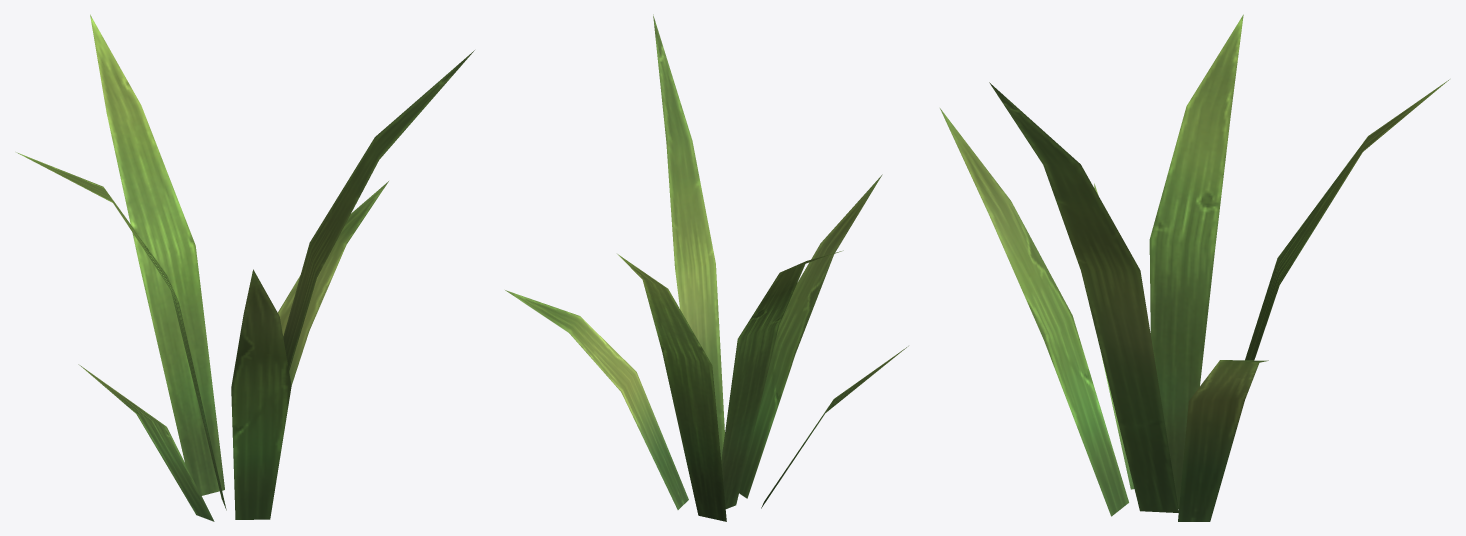
The model's file is GrassE.FBX.
3 views of the same model, side by side, from view 1: azimuth 30°, elevation 25°; view 2: azimuth 150°, elevation 25°; view 3: azimuth 270°, elevation 25° (orthographic). The views are drawn at different scales.
Parts seen in each view (by area): view 1: GrassE_ms1; view 2: GrassE_ms1; view 3: GrassE_ms1.
Part boxes in pixels (<box>): GrassE_ms1: <box>16,14,474,521</box>; GrassE_ms1: <box>505,14,908,521</box>; GrassE_ms1: <box>940,14,1449,521</box>.
Size of the model in its own units: 78.76 by 91.18 by 82.31.
